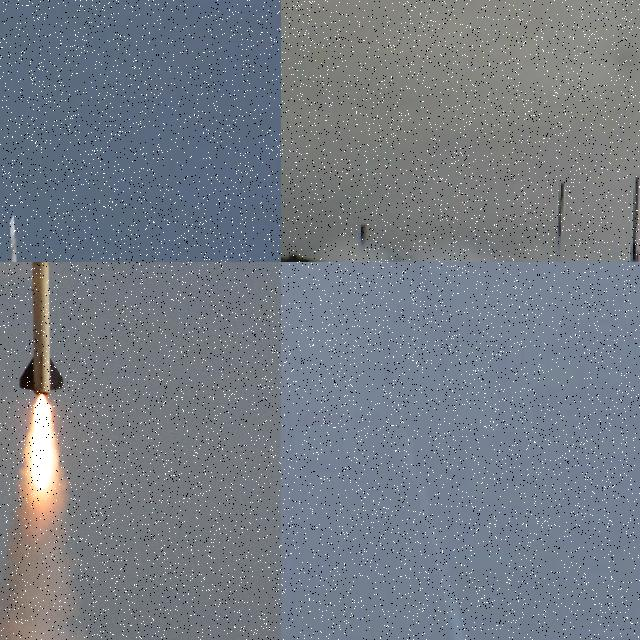Rocket: (18, 262, 65, 396), (9, 214, 21, 262), (397, 424, 399, 428)
